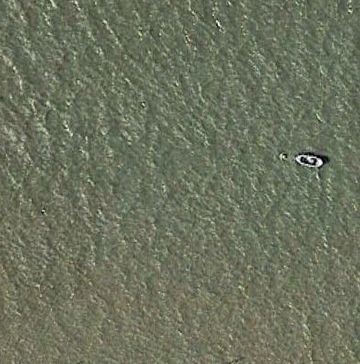boat: (292, 152, 325, 171)
